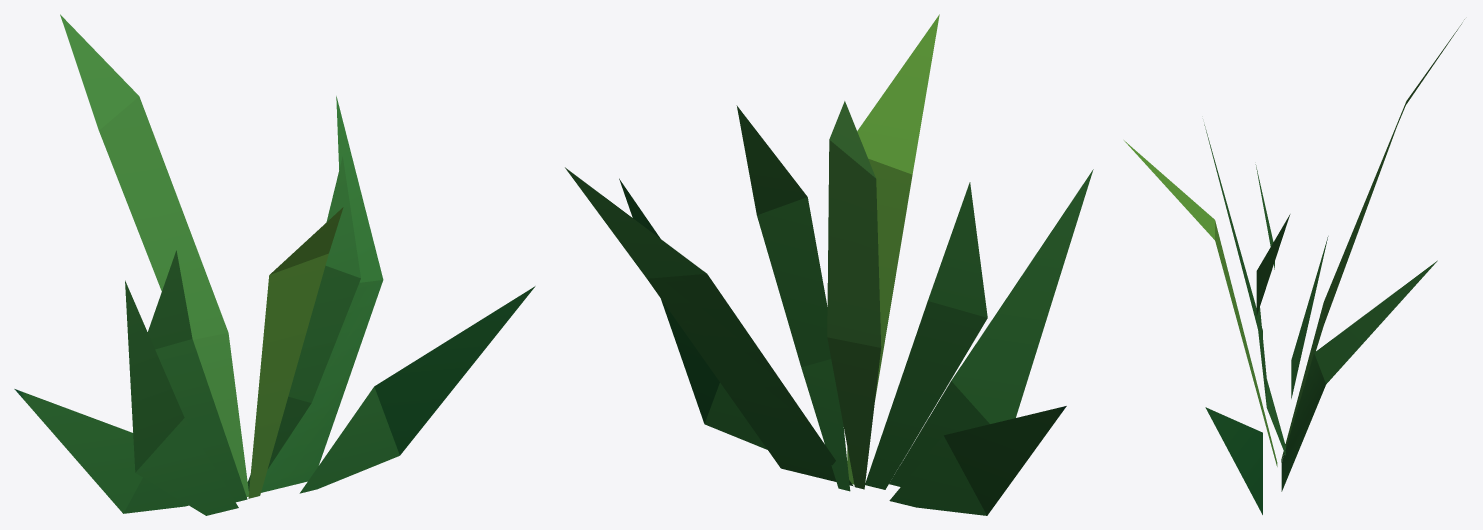
File: Grass_Tall_Small_0_1.fbx
3 renders of one model, left to right at view 1: azimuth 30°, elevation 25°; view 2: azimuth 150°, elevation 25°; view 3: azimuth 270°, elevation 25°, orthographic. The views are drawn at different scales.
Visible parts, largest first — view 1: grass-tall; view 2: grass-tall; view 3: grass-tall.
Part boxes in pixels (x1,y1,x2,y2): grass-tall: [14, 14, 535, 515]; grass-tall: [565, 14, 1093, 515]; grass-tall: [1124, 19, 1464, 514].
Size of the model in its own units: 125 by 113 by 87.07.
